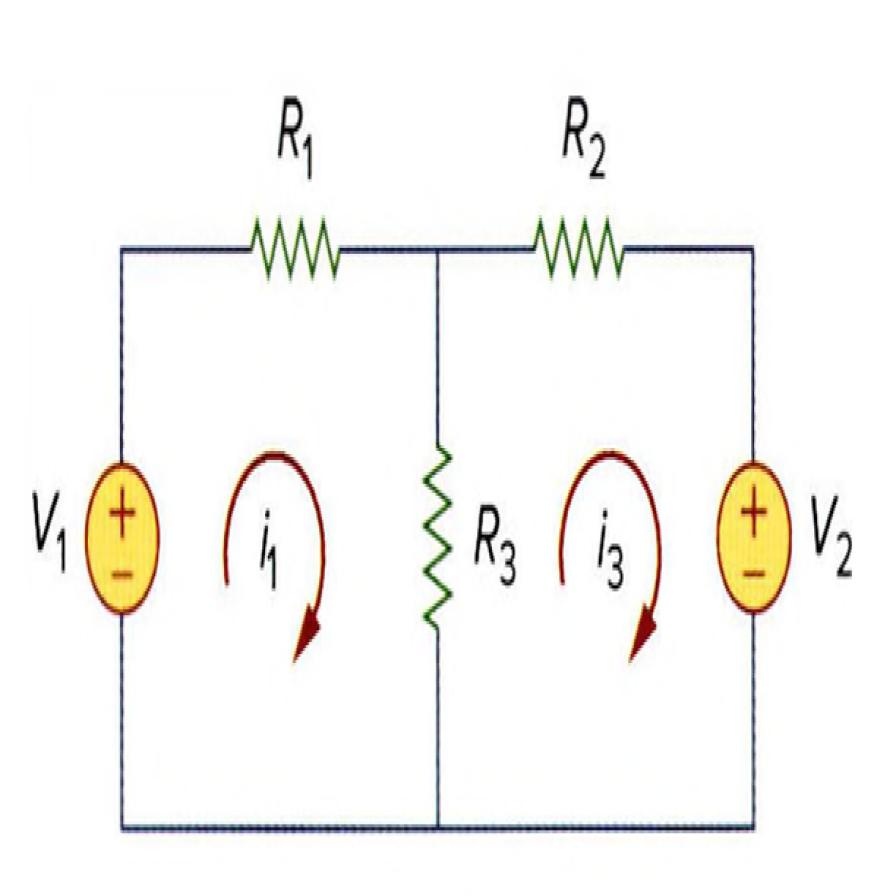R1: (231, 195, 351, 306), (518, 189, 629, 308)
R2: (402, 420, 462, 659)
V1: (707, 436, 800, 634), (79, 446, 167, 624)
